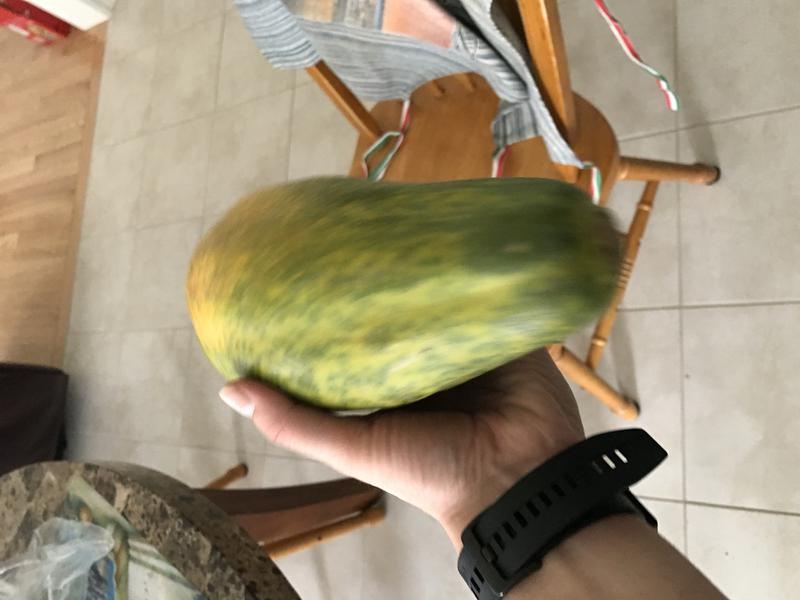papaya: (176, 161, 638, 430)
